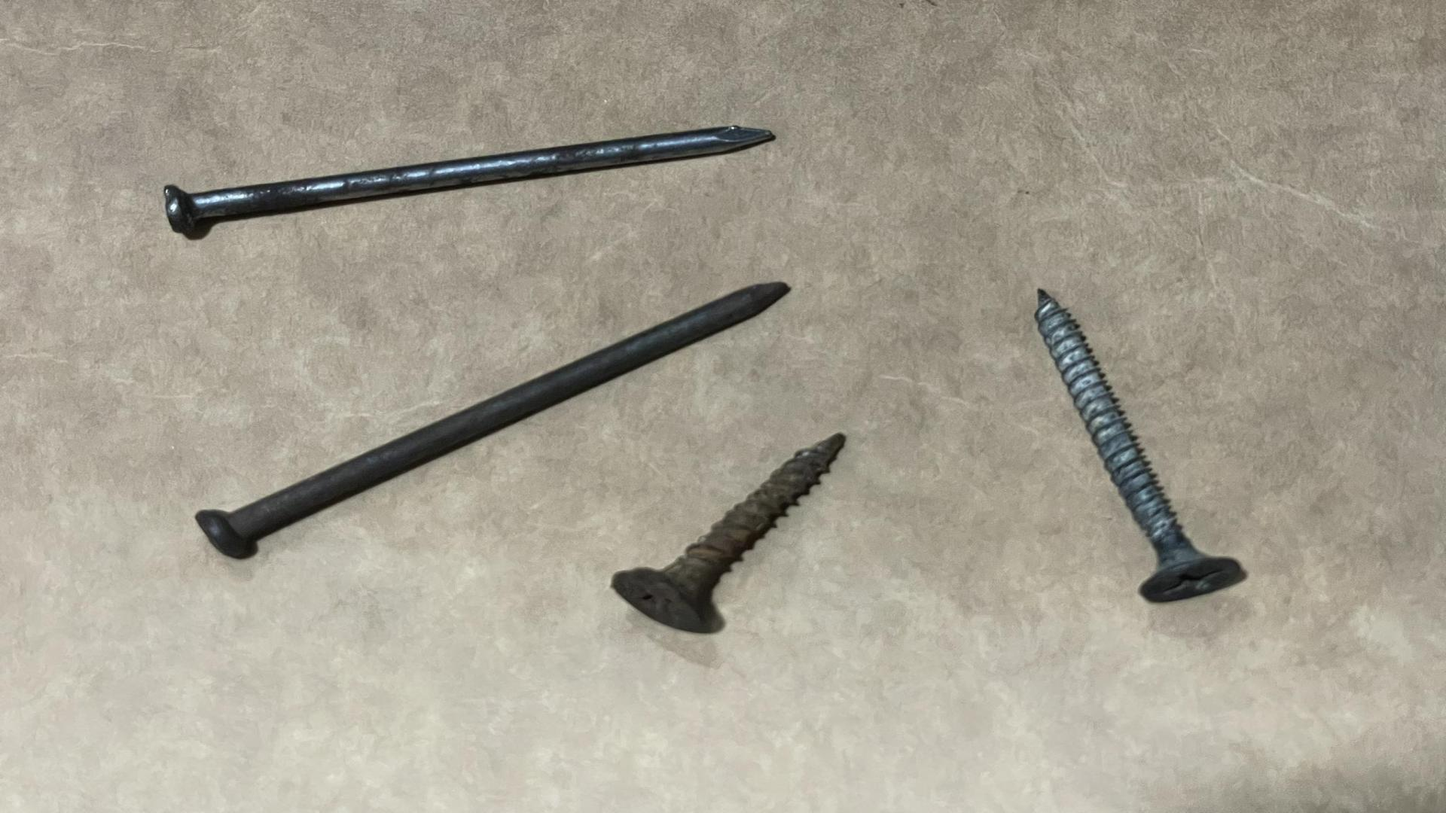nail: (103, 251, 870, 585), (117, 109, 847, 230)
screw: (973, 262, 1259, 642), (566, 416, 945, 672)
